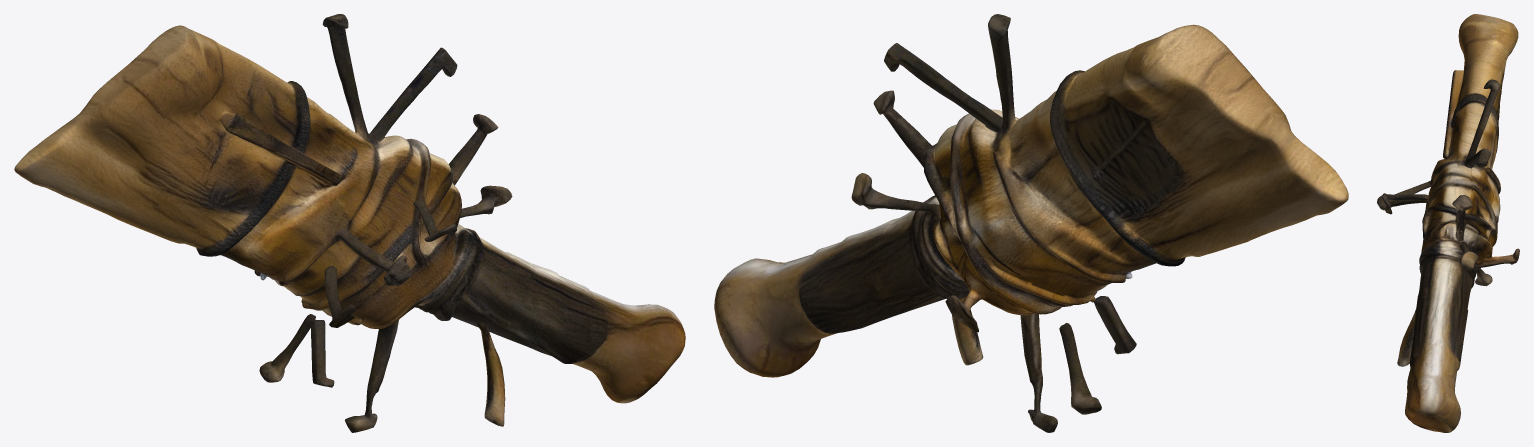
Rendered from weapon_nail_bat.glb.
3 views of the same model, side by side, from view 1: azimuth 30°, elevation 25°; view 2: azimuth 150°, elevation 25°; view 3: azimuth 270°, elevation 25° (orthographic). The views are drawn at different scales.
Bounding box in the file's own units: 1.24 × 0.84 × 0.3782.
1 material, 1 textured.
